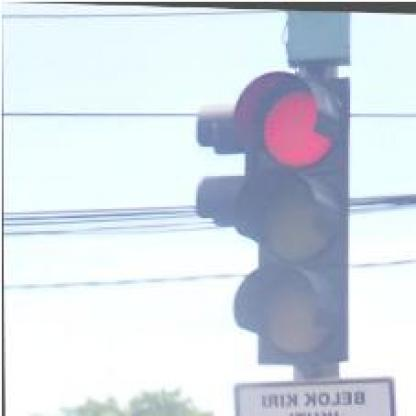red: (230, 63, 353, 362)
